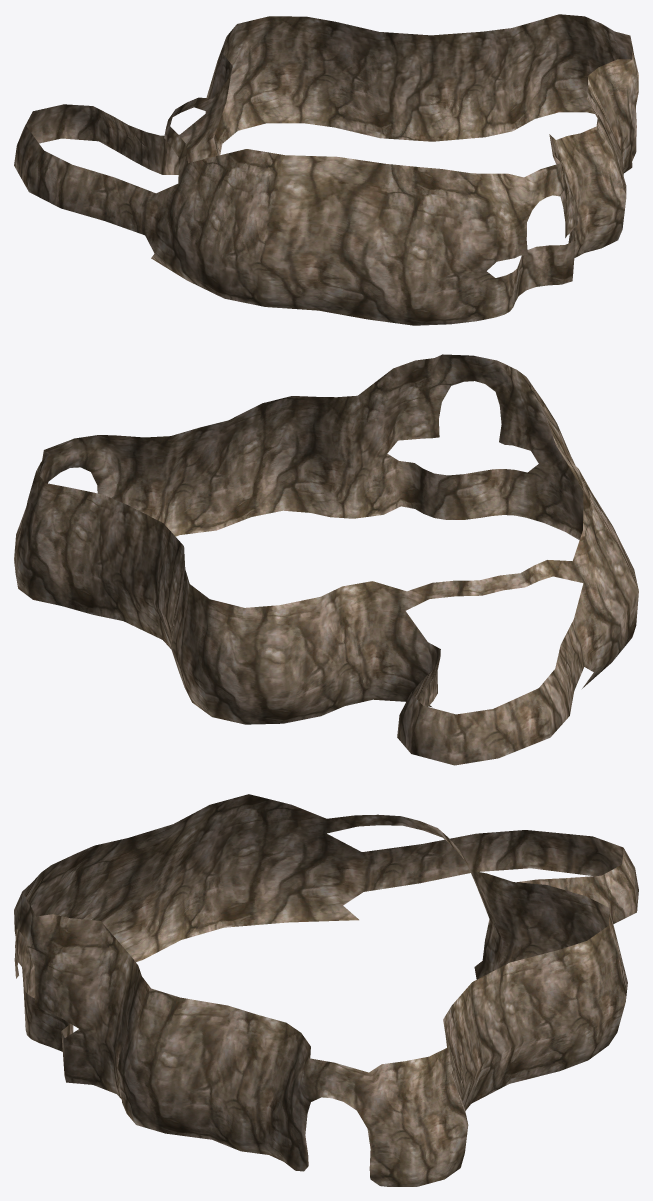
File: EKH_CAVERNS_PS_CA_SIDE_CAVE77559.fbx
The picture shows the model from 3 angles, top to bottom: view 1: azimuth 30°, elevation 25°; view 2: azimuth 150°, elevation 25°; view 3: azimuth 270°, elevation 25°; orthographic projection. The views are drawn at different scales.
Visible parts, largest first — view 1: EKH_CAVERNS_PS_CA_SIDE_CAVE77559; view 2: EKH_CAVERNS_PS_CA_SIDE_CAVE77559; view 3: EKH_CAVERNS_PS_CA_SIDE_CAVE77559.
Boxes of the visible parts, x1,y1,x2,y2 form: EKH_CAVERNS_PS_CA_SIDE_CAVE77559: (14, 14, 638, 325); EKH_CAVERNS_PS_CA_SIDE_CAVE77559: (14, 354, 638, 765); EKH_CAVERNS_PS_CA_SIDE_CAVE77559: (14, 794, 638, 1186).
Bounding box in the file's own units: 274538 × 68869 × 243635.
1 material, 1 textured.
